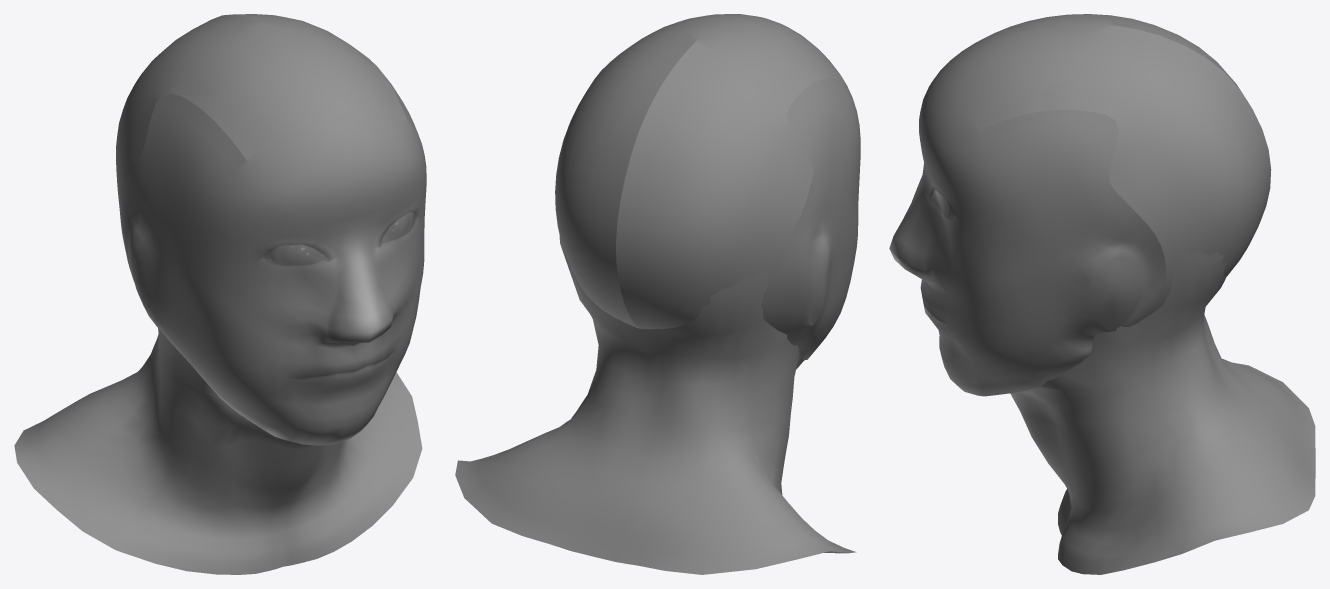
Rendered from Head_Diterusin.glb.
3 renders of one model, left to right at view 1: azimuth 30°, elevation 25°; view 2: azimuth 150°, elevation 25°; view 3: azimuth 270°, elevation 25°, orthographic.
Parts seen in each view (by area): view 1: Head, Neck.001; view 2: Head, Neck.001; view 3: Head, Neck.001.
Boxes of the visible parts, <box> form: Head: <box>116,14,426,445</box>; Neck.001: <box>14,328,422,574</box>; Head: <box>555,14,860,359</box>; Neck.001: <box>455,236,856,574</box>; Head: <box>889,14,1271,396</box>; Neck.001: <box>1010,250,1315,574</box>.
Size of the model in its own units: 0.2726 by 0.3641 by 0.2713.
2 materials, 2 textured.
